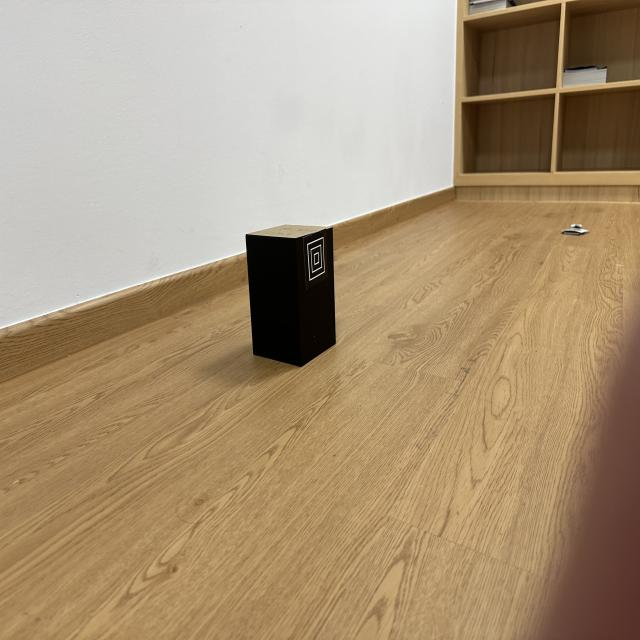BULLSEYE: (303, 228, 328, 290)
